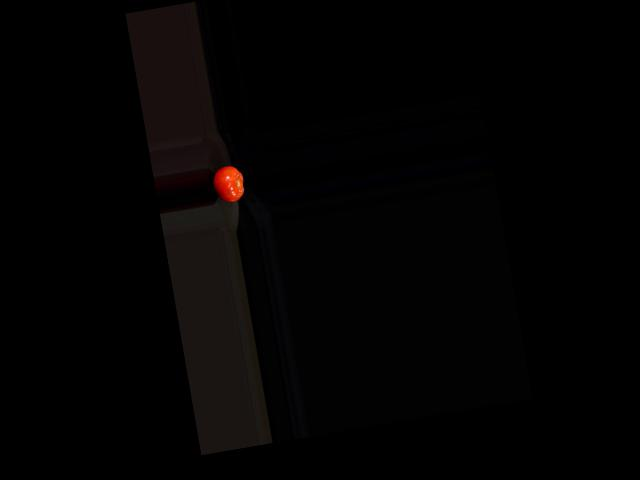tomato: (210, 163, 246, 204)
